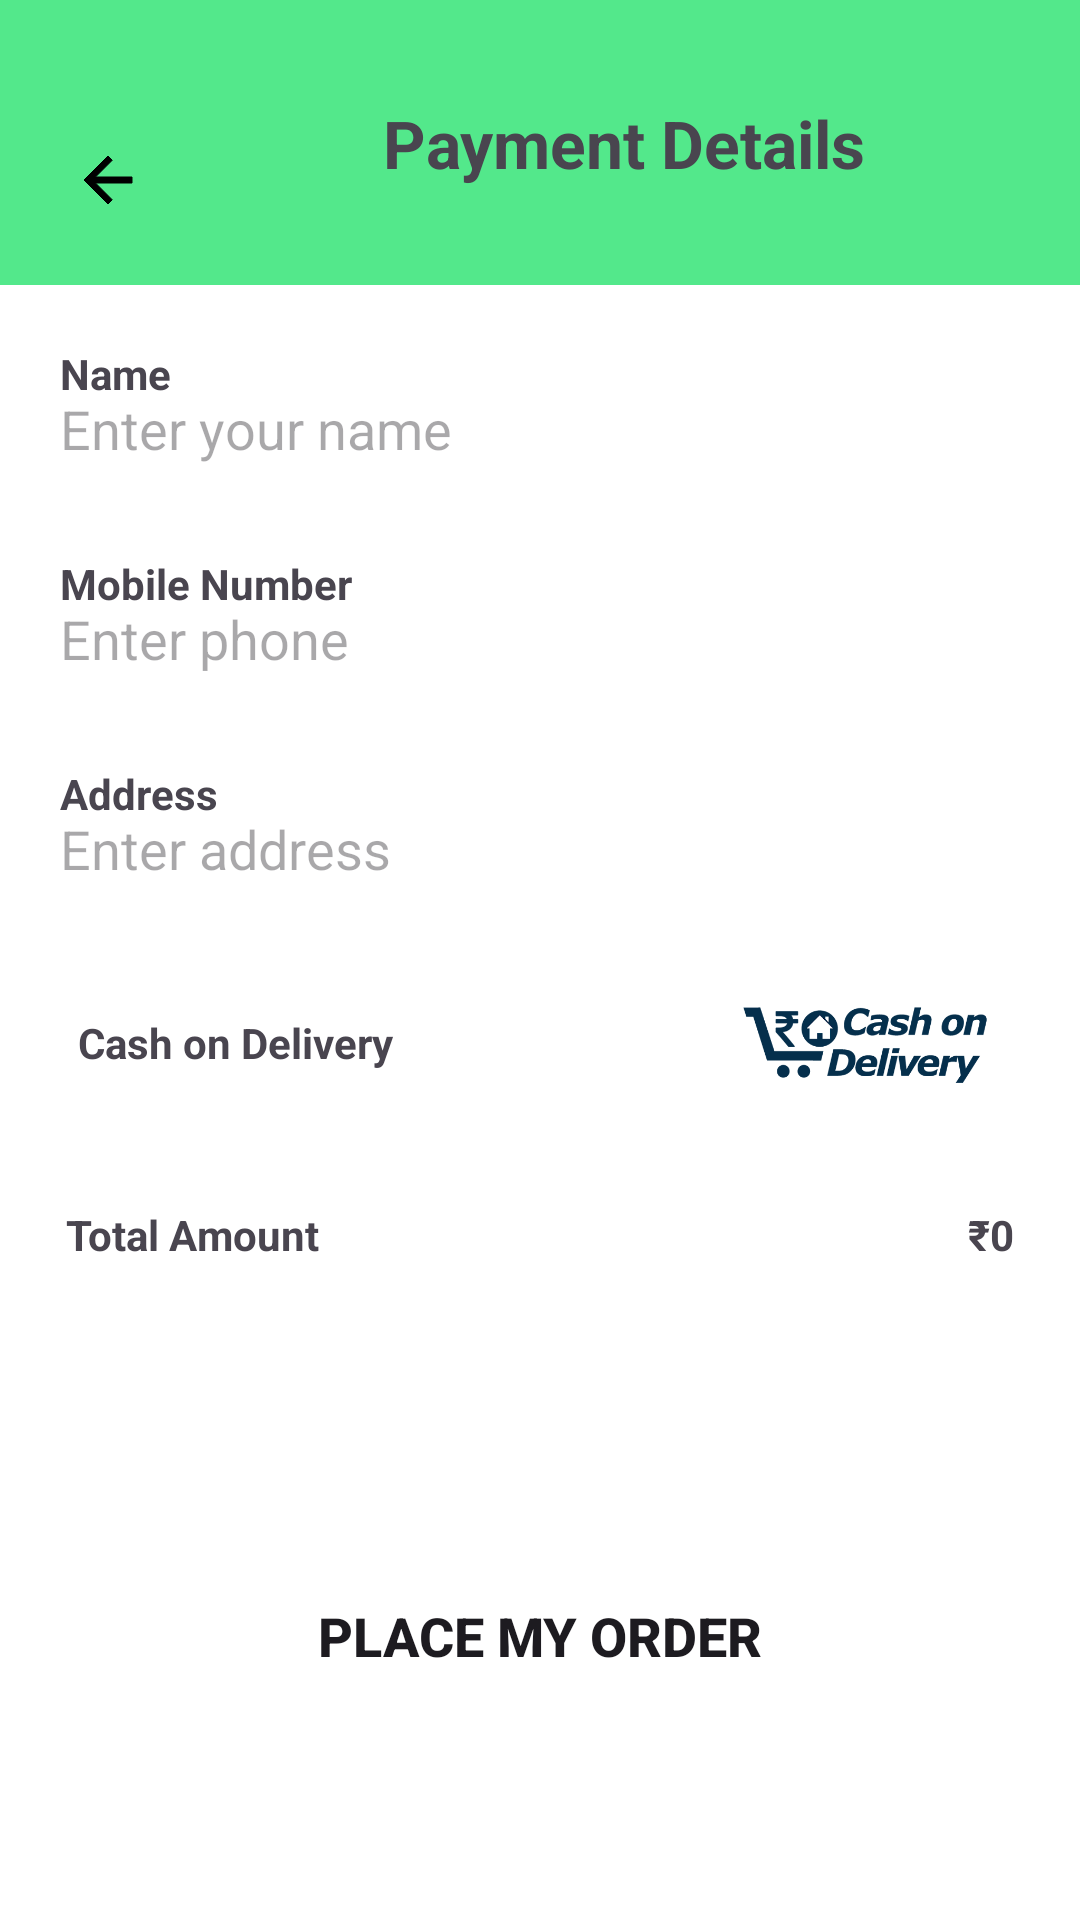

Screen size 1080px×1920px. Icon name, then its box in pixels as (left=x1, top=y1, right=x2, bottom=y2):
arrow back: (left=84, top=156, right=133, bottom=204)
